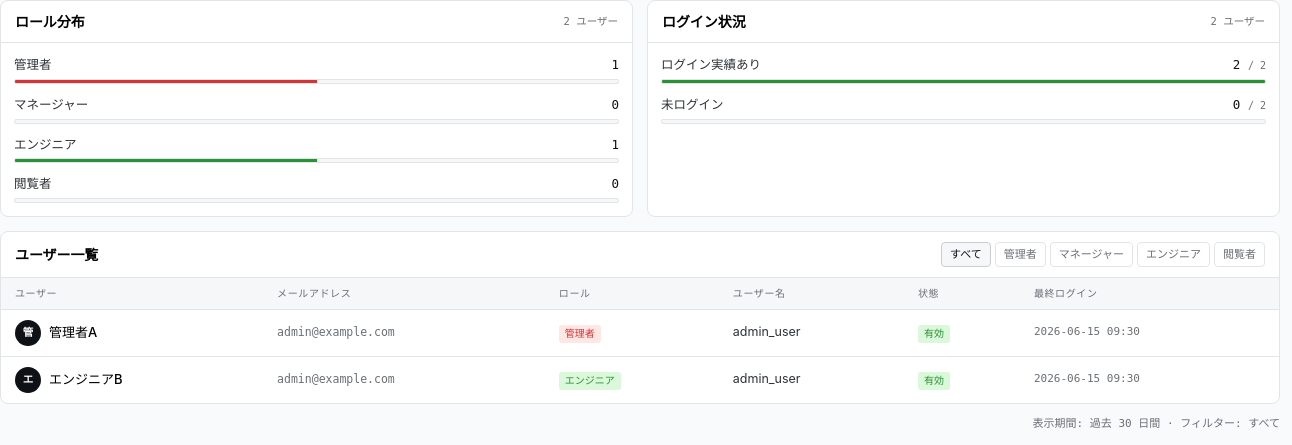
Test: DashboardView > UsersSubView › filters users by role when role filter pill is clicked
Expected: the text "管理者A" is shown, x1=49 y1=323 x2=97 y2=342
Expected: the text "エンジニアB" is shown, x1=49 y1=370 x2=122 y2=389
Click the button "管理者" at {"x": 1020, "y": 254}, box x1=995 y1=242 x2=1046 y2=266
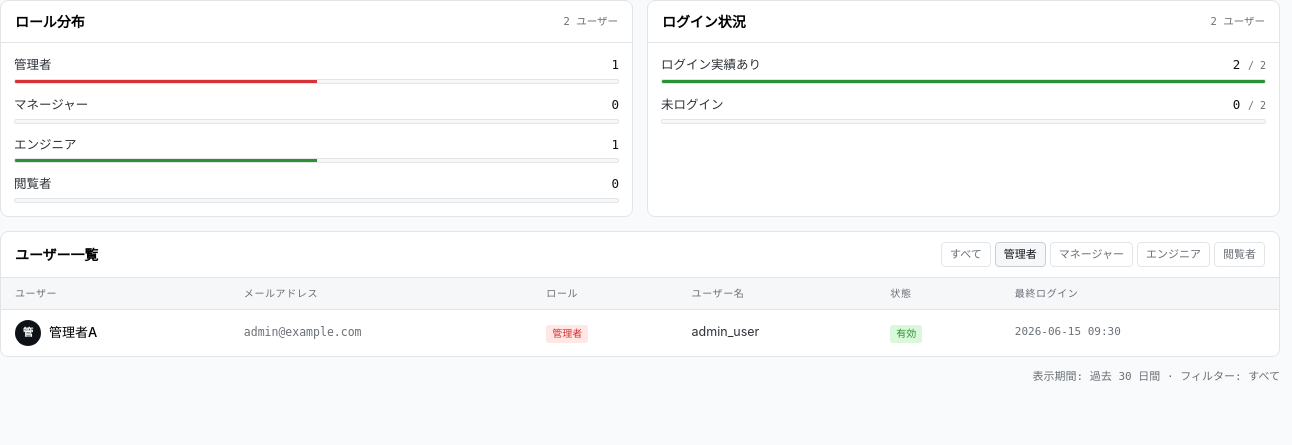
Expected: the text "管理者A" is shown, x1=49 y1=323 x2=97 y2=342
Now the text "エンジニアB" is gone
